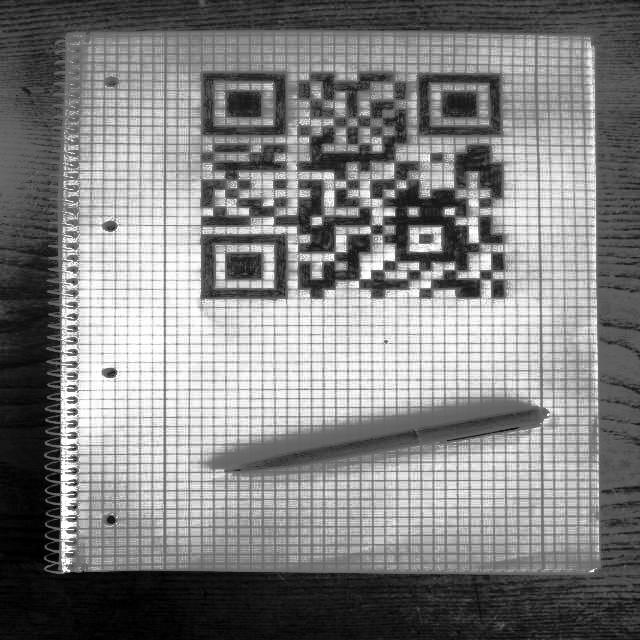qr_code: (201, 71, 504, 299)
